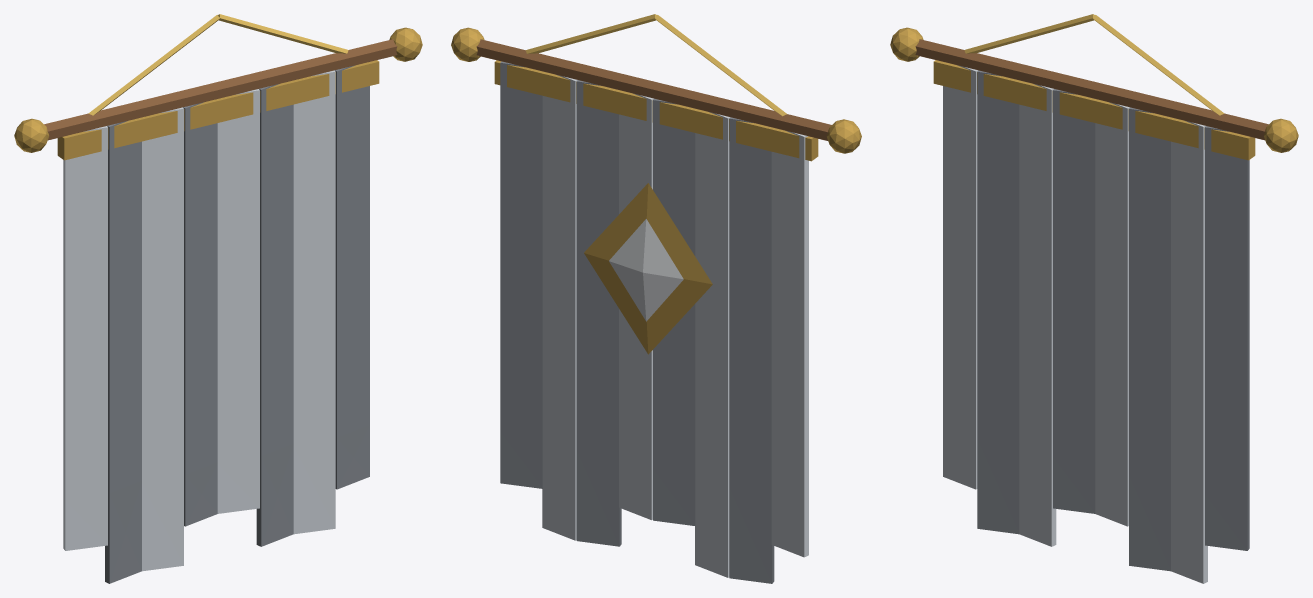
Rendered from Banner.obj.
3 views of the same model, side by side, from view 1: azimuth 30°, elevation 25°; view 2: azimuth 150°, elevation 25°; view 3: azimuth 330°, elevation 25° (orthographic).
Bounding box in the file's own units: 3.46 × 4.41 × 0.33.
